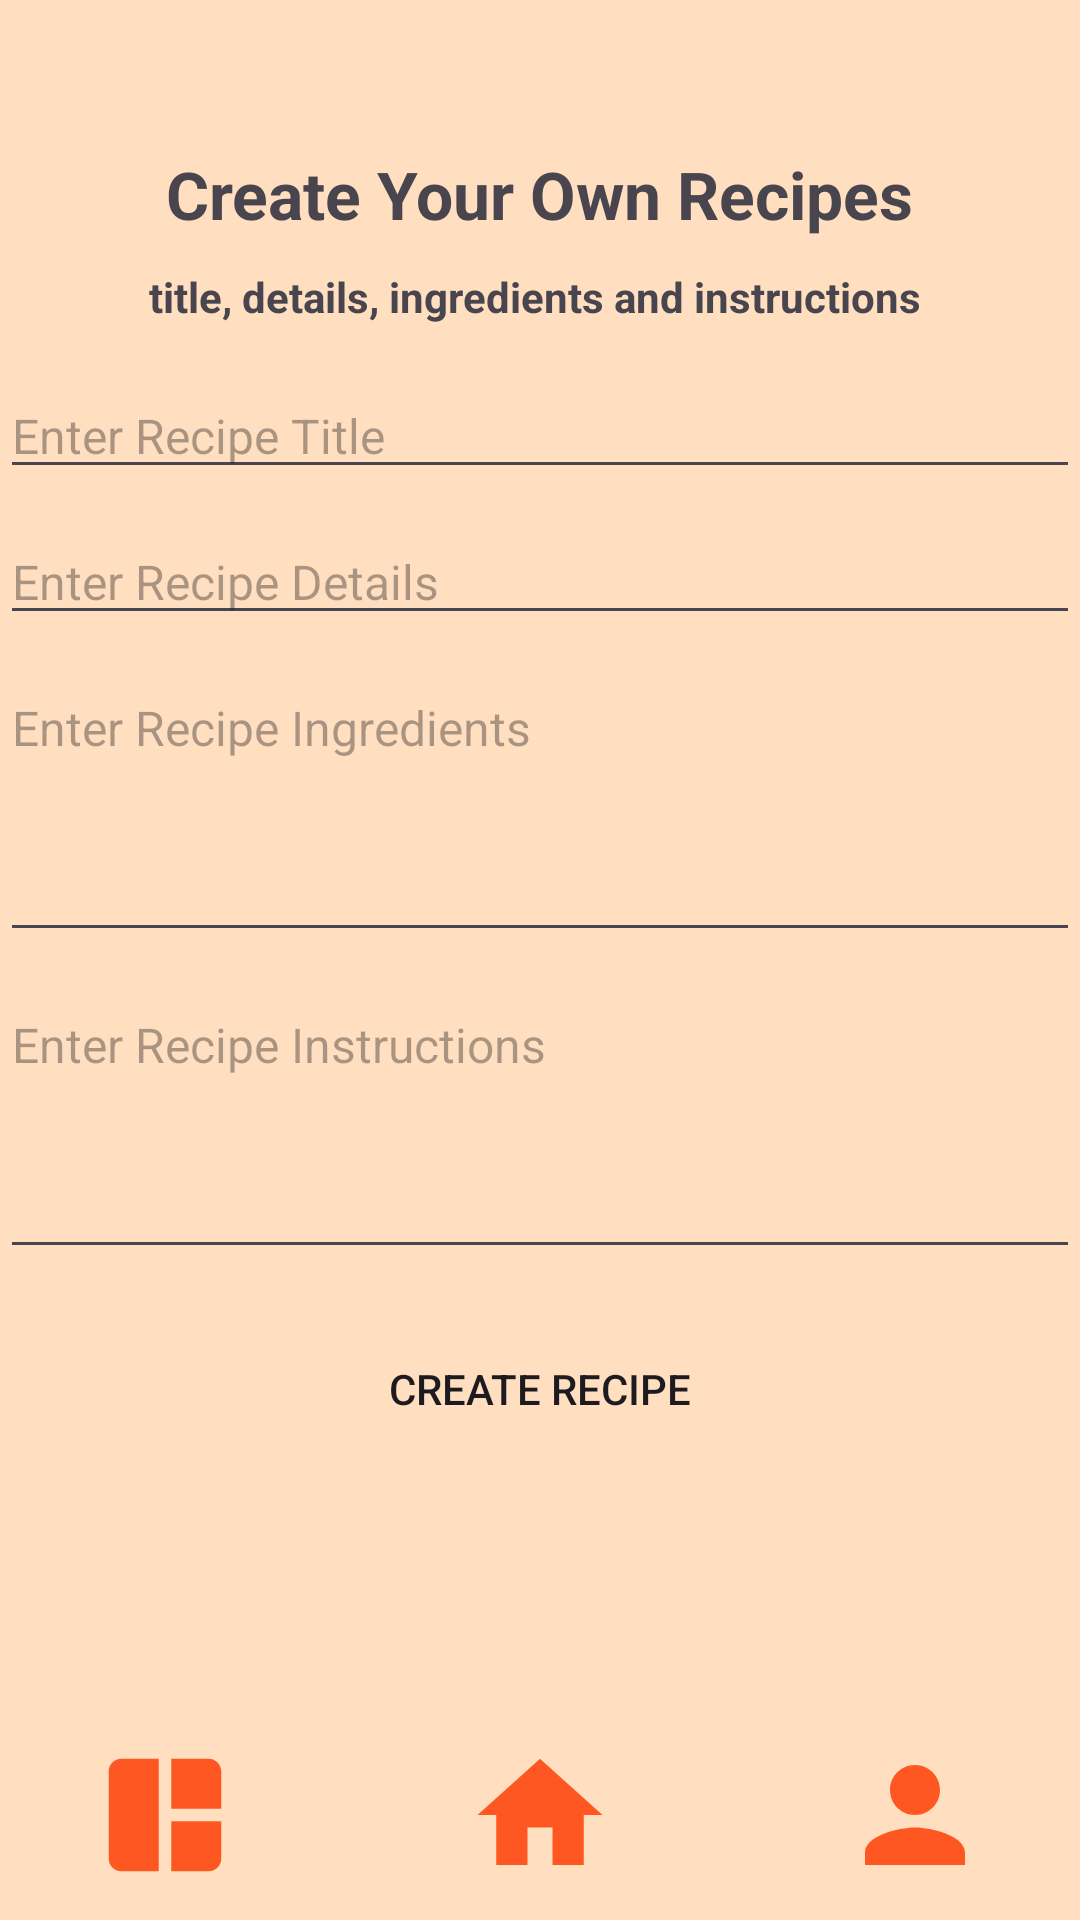

Icon click points for this 1080 x 1920 phone screenshot, format [x,y]:
categories: [165,1815]
home: [540,1812]
personx: [915,1815]
